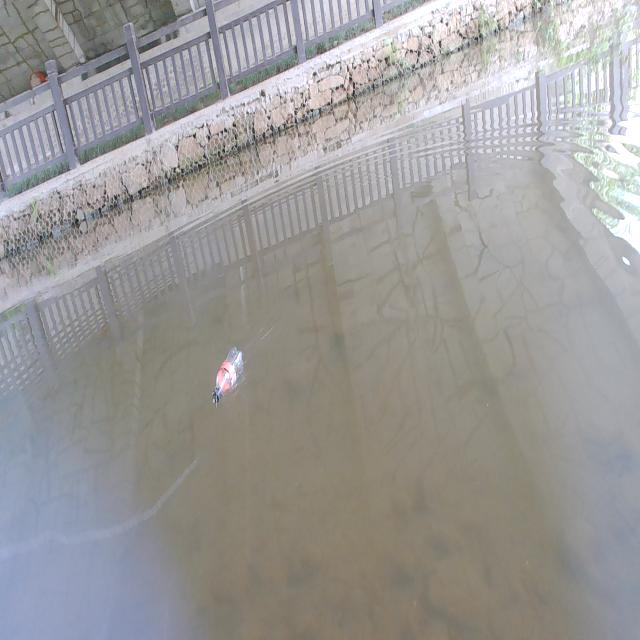bottle: (204, 344, 254, 406)
